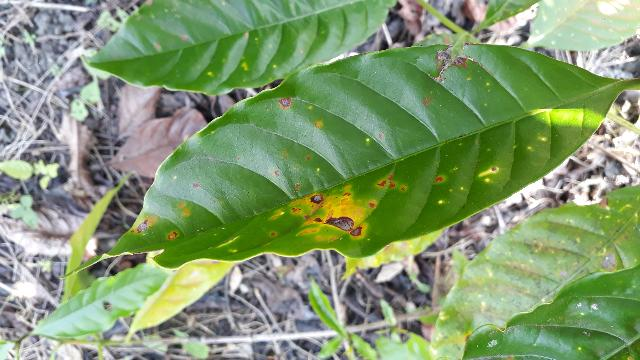rust_level_2: (16, 82, 577, 316)
